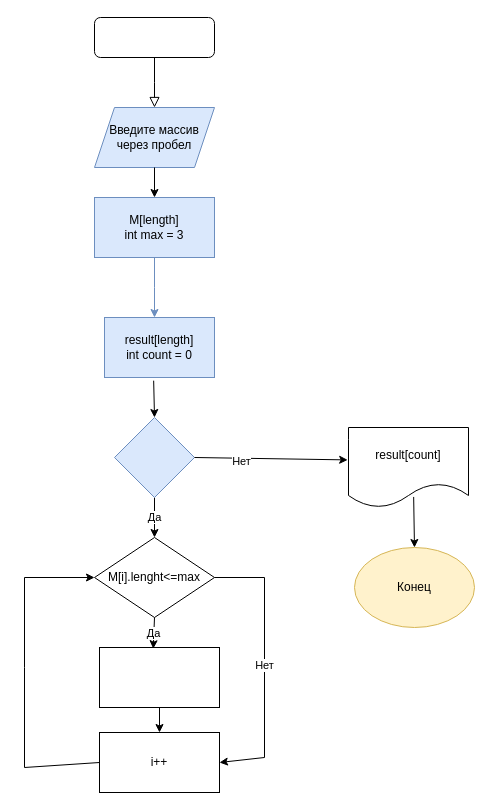
Image size: 492x810. Some labels were removed from this diagram. The shapes that lost their labels are listed below. From the top down, each one's centre as x and y in pixels, then its label:
At (x=154, y=37): "Старт".
At (x=154, y=457): "i < lenght".
At (x=159, y=677): "result[count]=M[i] count ++".
